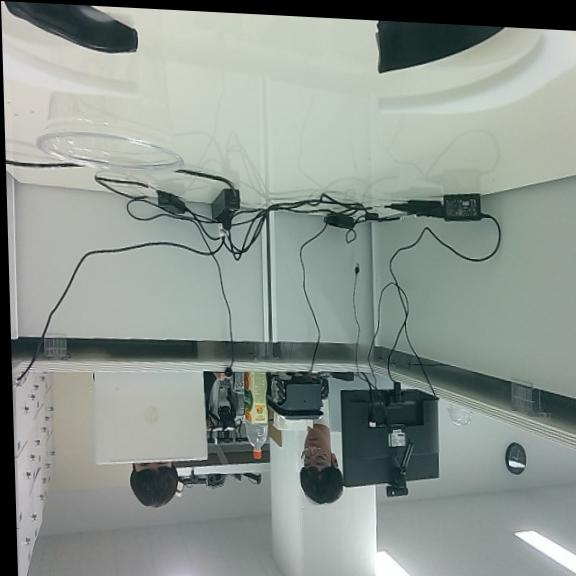Plastik: (36, 10, 182, 170)
